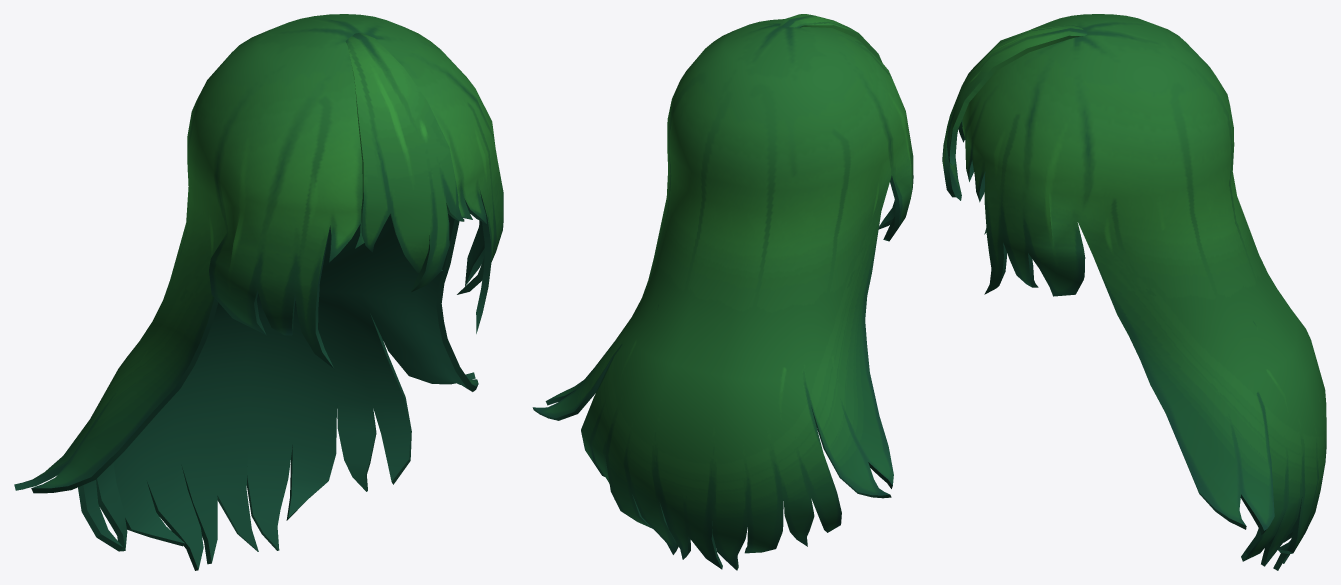
File: green-long-hair.glb
The picture shows the model from 3 angles, left to right: view 1: azimuth 30°, elevation 25°; view 2: azimuth 150°, elevation 25°; view 3: azimuth 270°, elevation 25°; orthographic projection. The views are drawn at different scales.
Visible parts, largest first — view 1: Circle.001; view 2: Circle.001; view 3: Circle.001.
Part boxes in pixels (box(x1,y1,x2,y2)): Circle.001: box(14, 14, 503, 570); Circle.001: box(532, 14, 913, 570); Circle.001: box(942, 14, 1326, 570).
Size of the model in its own units: 5.22 by 6.6 by 4.36.
Materials: 1 (1 with a texture image).
